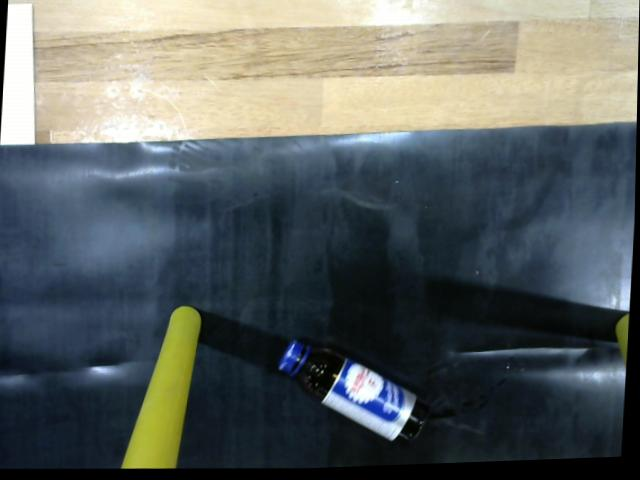glass: (272, 336, 434, 454)
